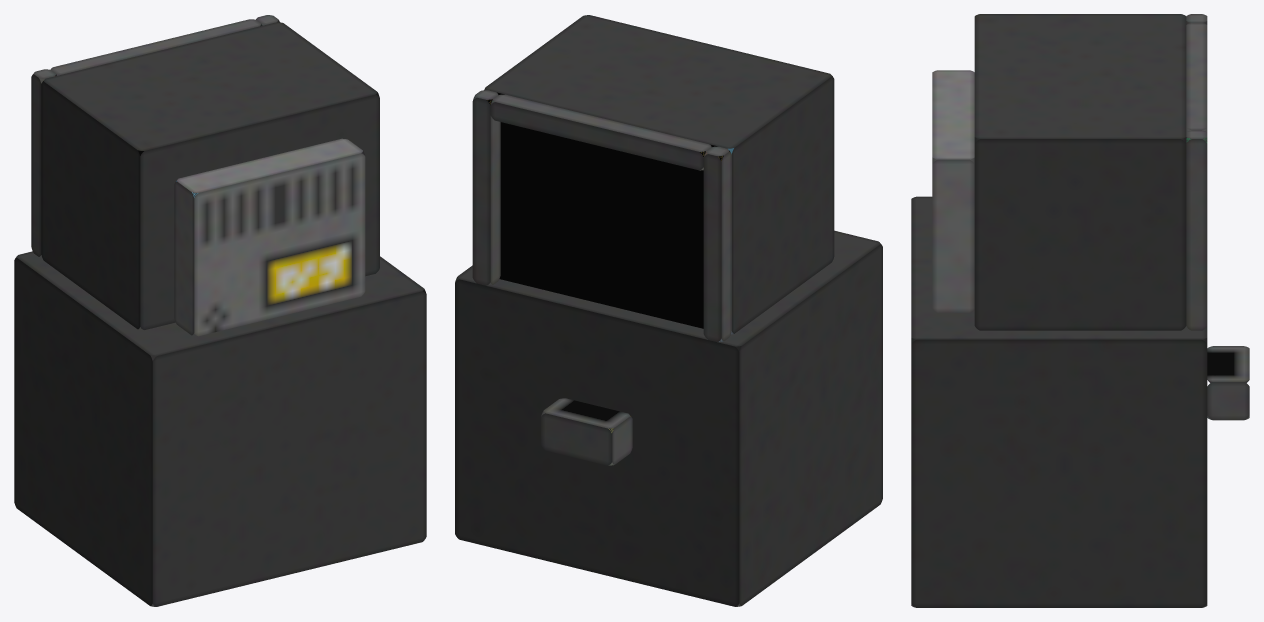
File: ShopMachine.fbx
3 views of the same model, side by side, from view 1: azimuth 30°, elevation 25°; view 2: azimuth 150°, elevation 25°; view 3: azimuth 270°, elevation 25° (orthographic). The views are drawn at different scales.
Visible parts, largest first — view 1: cube; view 2: cube; view 3: cube.
Part boxes in pixels (left/top/right/bottom): cube: left=14, top=15, right=426, bottom=606; cube: left=455, top=15, right=882, bottom=606; cube: left=911, top=14, right=1249, bottom=607.
Size of the model in its own units: 100 by 150 by 100.
Materials: 1 (1 with a texture image).
